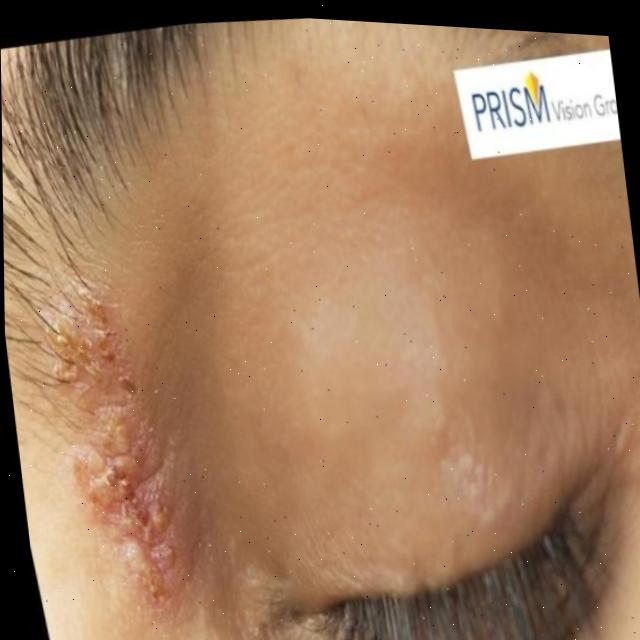Shingles: (31, 271, 190, 631)
